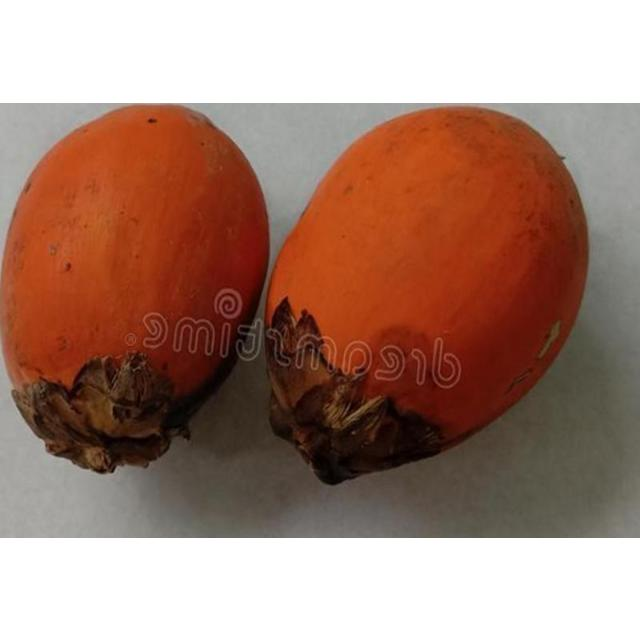good: (262, 106, 590, 485), (0, 104, 271, 475)
